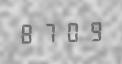eight: (18, 21, 38, 44)
nine: (81, 19, 101, 42)
seven: (39, 20, 59, 44)
zero: (60, 20, 80, 43)
